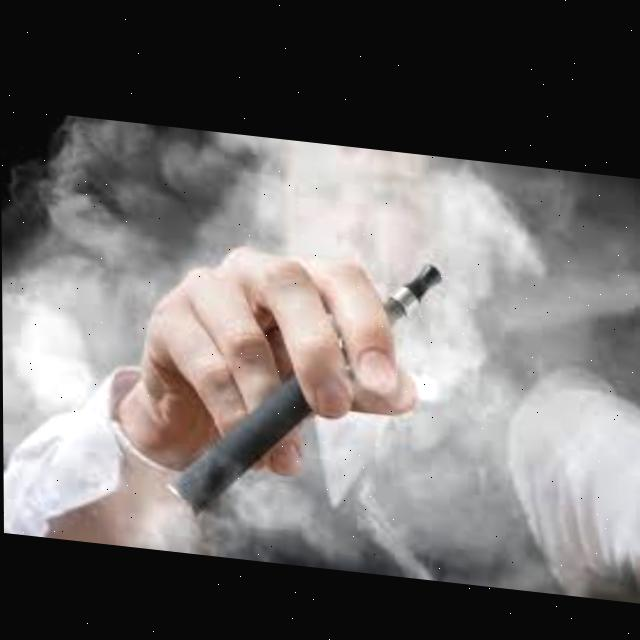vape: (166, 227, 446, 528)
